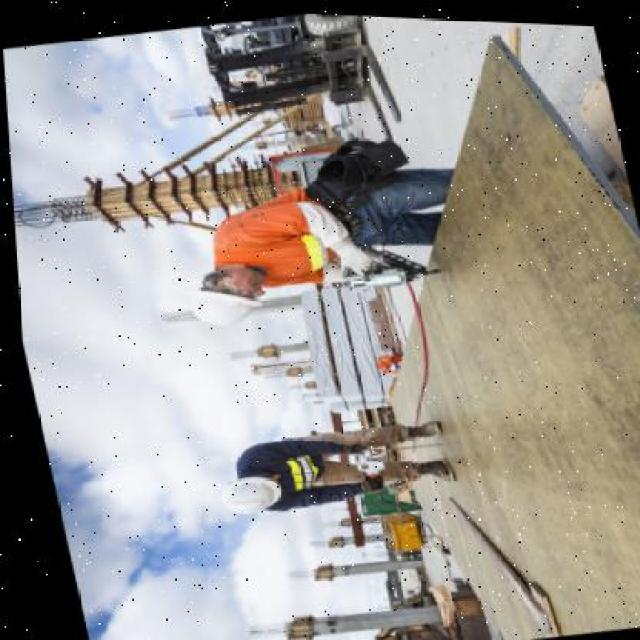helmet: (180, 271, 266, 333), (208, 462, 284, 518)
